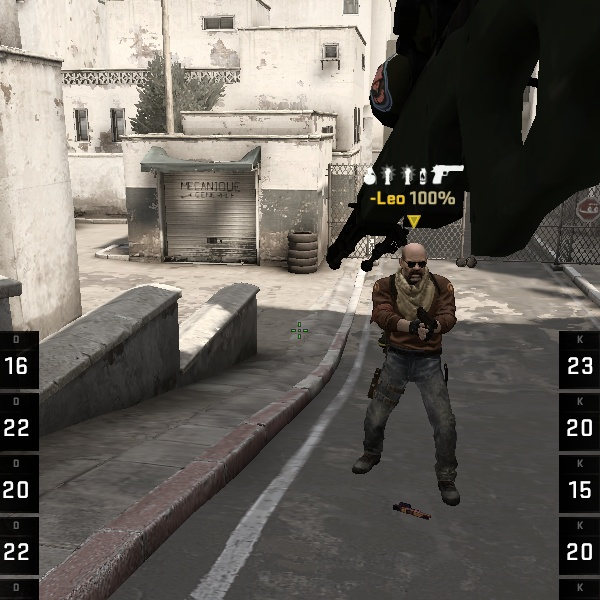t_body: (337, 239, 475, 498)
t_head: (390, 240, 439, 290)
